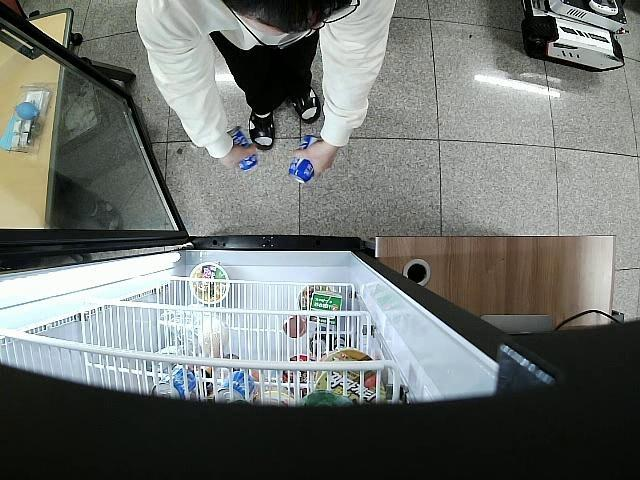13_pocariSweat: (226, 123, 256, 172), (290, 135, 318, 186)
